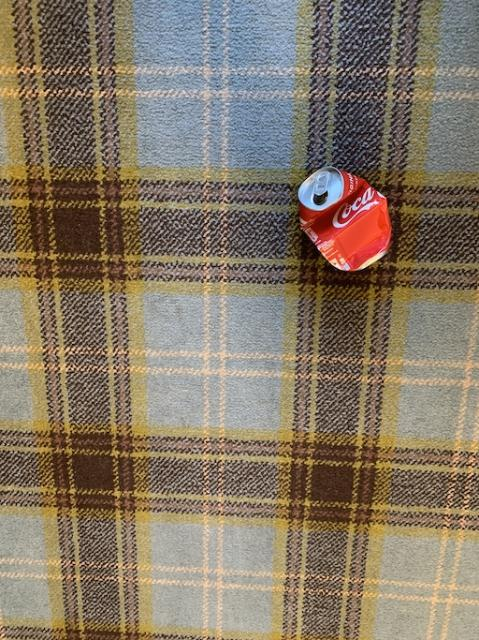metal: (298, 165, 390, 269)
